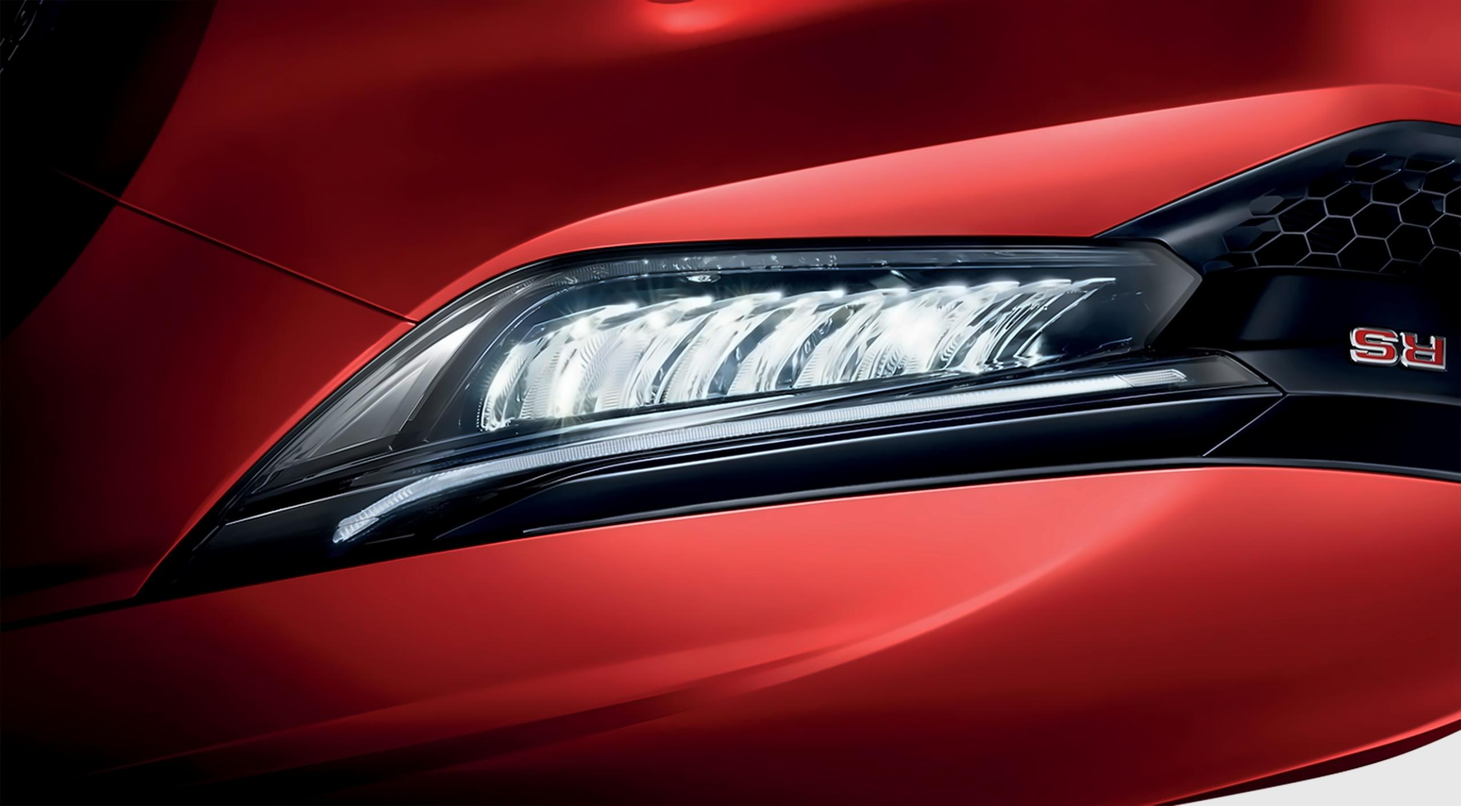Car hood: (0, 446, 1461, 806)
Front bumper: (0, 0, 1461, 326)
Headlight - -L-: (112, 223, 1292, 626)
